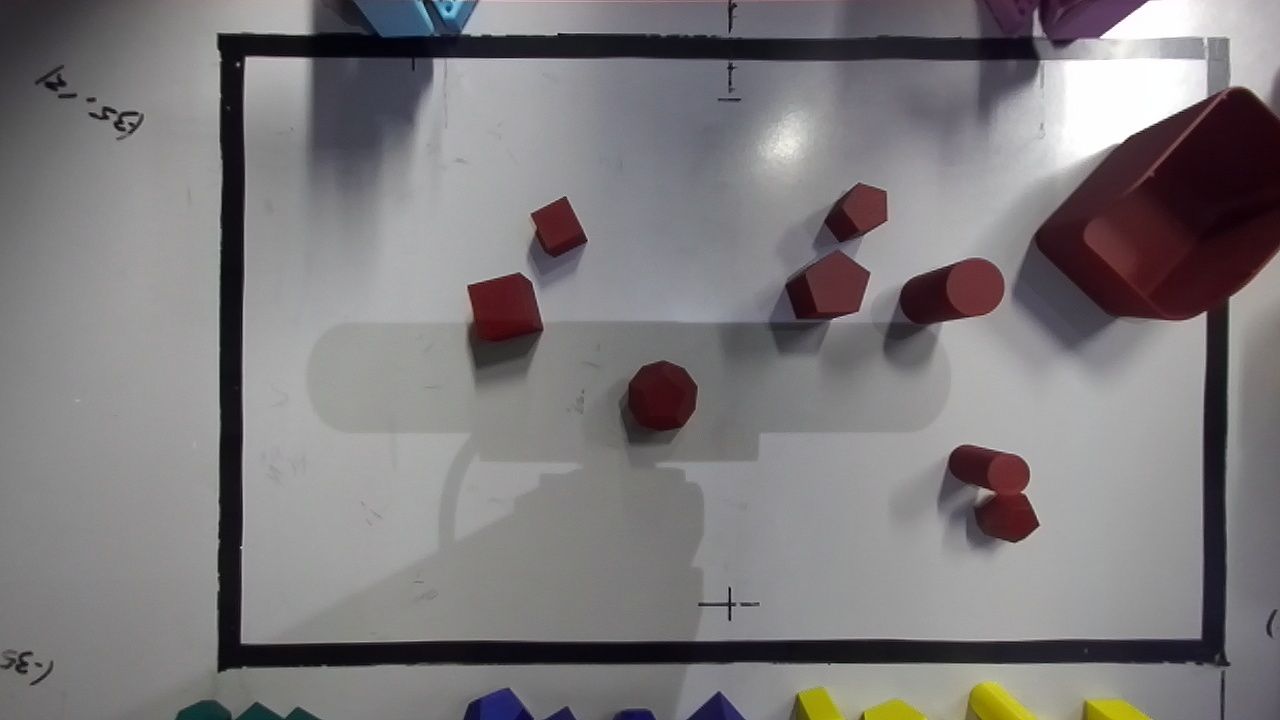bin: (1035, 90, 1279, 318)
cube: (467, 273, 542, 341), (531, 196, 586, 256)
cylinder: (900, 257, 1004, 323), (948, 445, 1029, 494)
dodecahedron: (628, 361, 697, 430), (975, 494, 1038, 541)
hexagonal: (786, 251, 869, 318), (824, 183, 887, 241)
